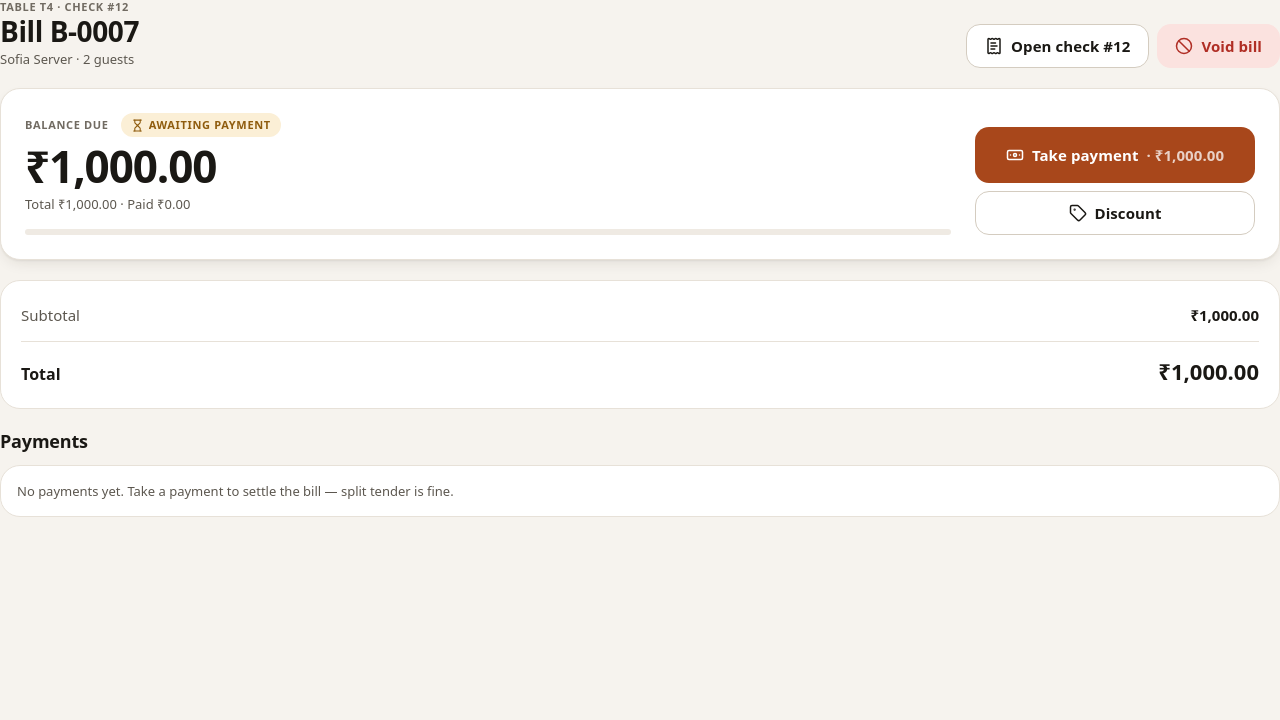
Test: BillDetail money intents › shows "Paid in full" with change from our own tender only when our own charge settled the bill
Click the button "Take payment · ₹1,000.00". click: coordinates (1115, 155)
box: [975, 127, 1255, 183]
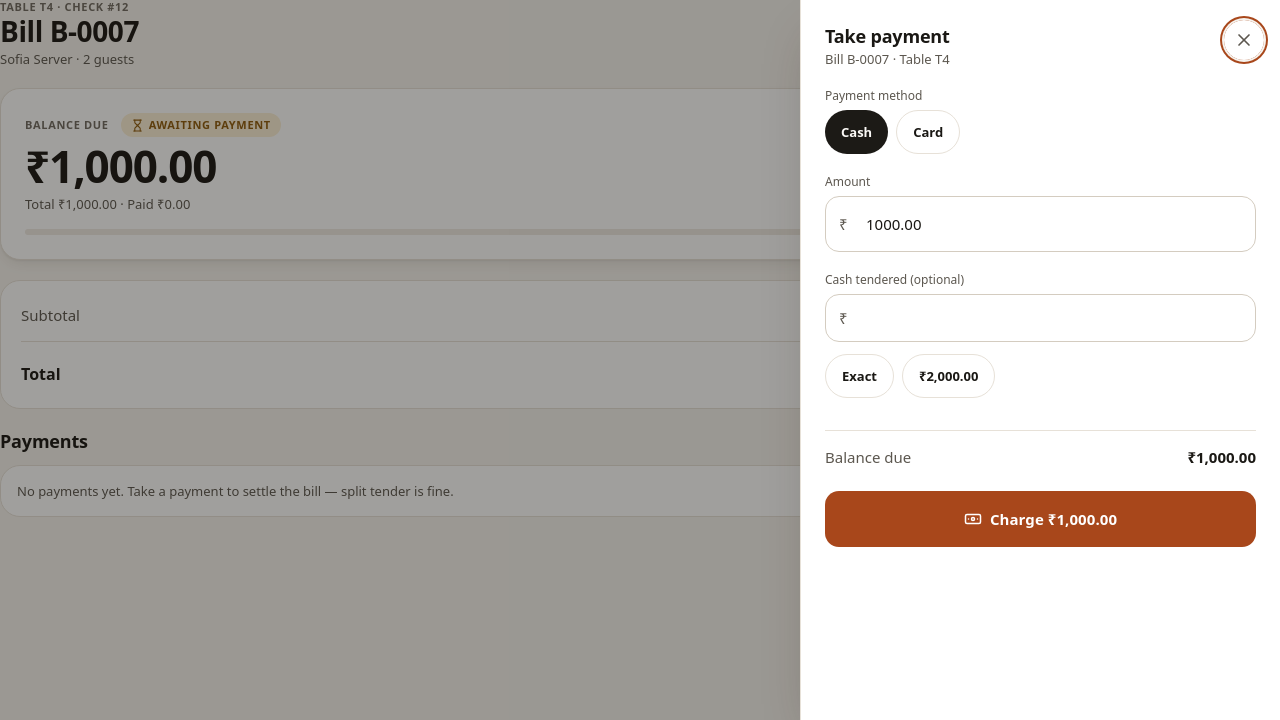
Replace the text in the field labelled "Amount" with "1000". click: coordinates (1040, 224)
box: [825, 196, 1256, 252]
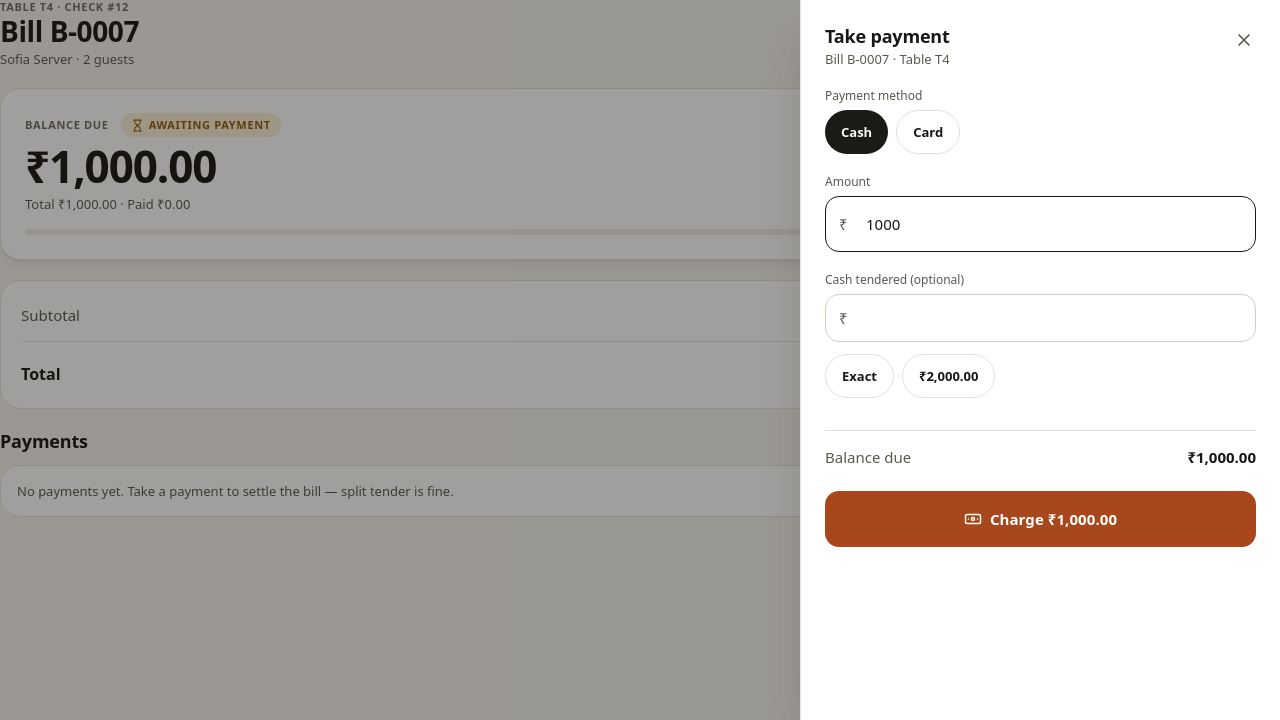
Click the radio button labelled "Cash". click: coordinates (857, 132)
box: [825, 110, 888, 154]
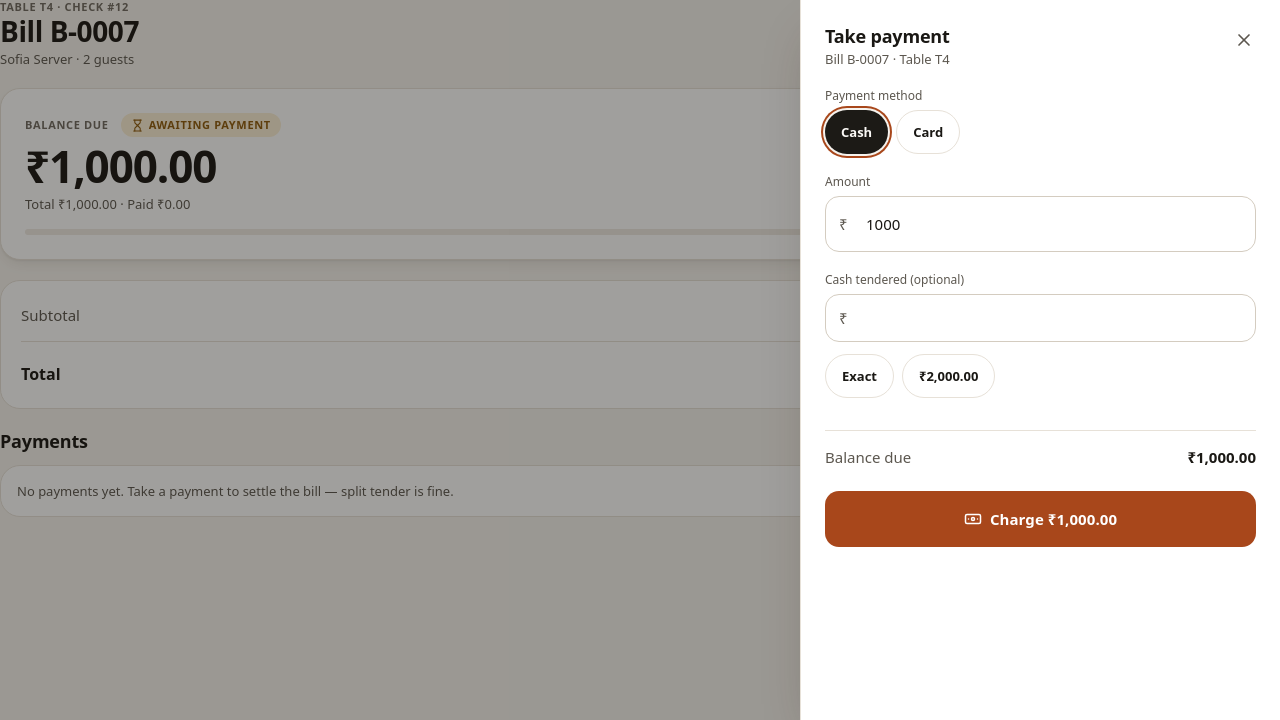
Type "1500" into the field labelled "Cash tendered (optional)". click: coordinates (1040, 318)
box: [825, 294, 1256, 342]
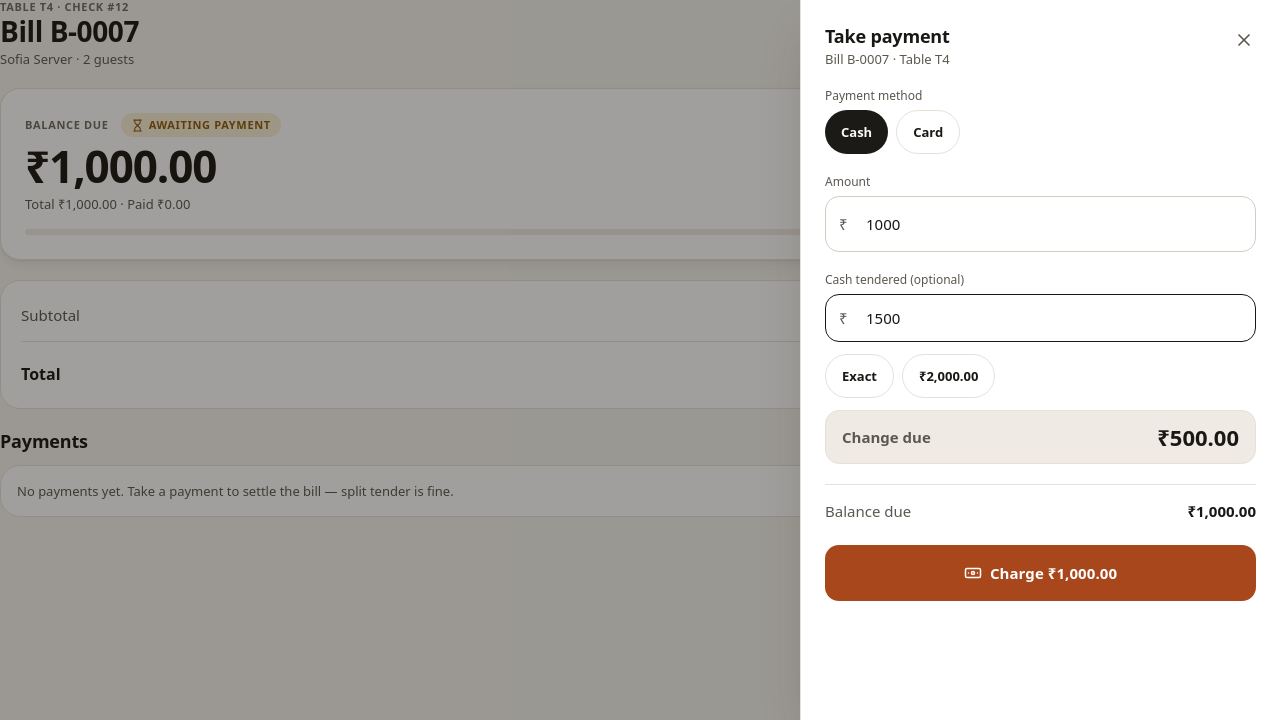
Click the button "Charge ₹1,000.00". click: coordinates (1040, 573)
box: [825, 545, 1256, 601]
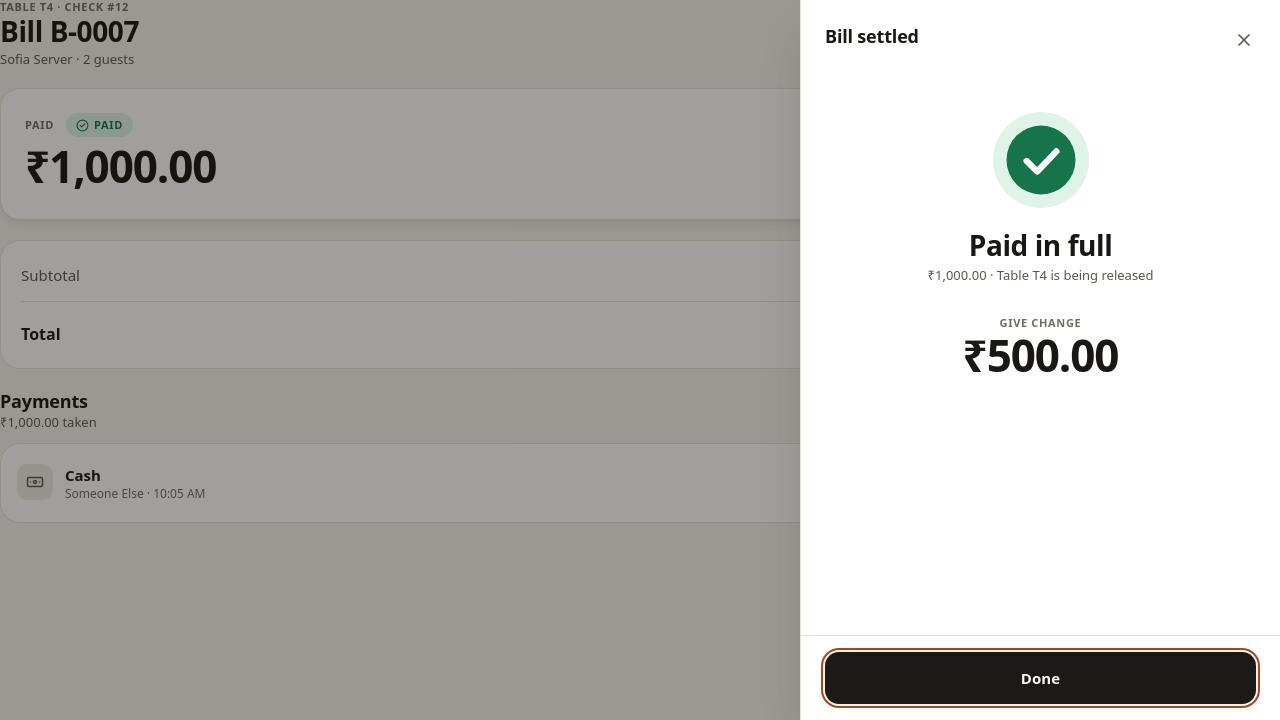
Result: the text "₹500.00" is shown at [963, 330, 1118, 380]
Result: the heading "Paid in full" is shown at [969, 228, 1112, 262]
Result: the text "Give change" is shown at [1000, 315, 1081, 330]
